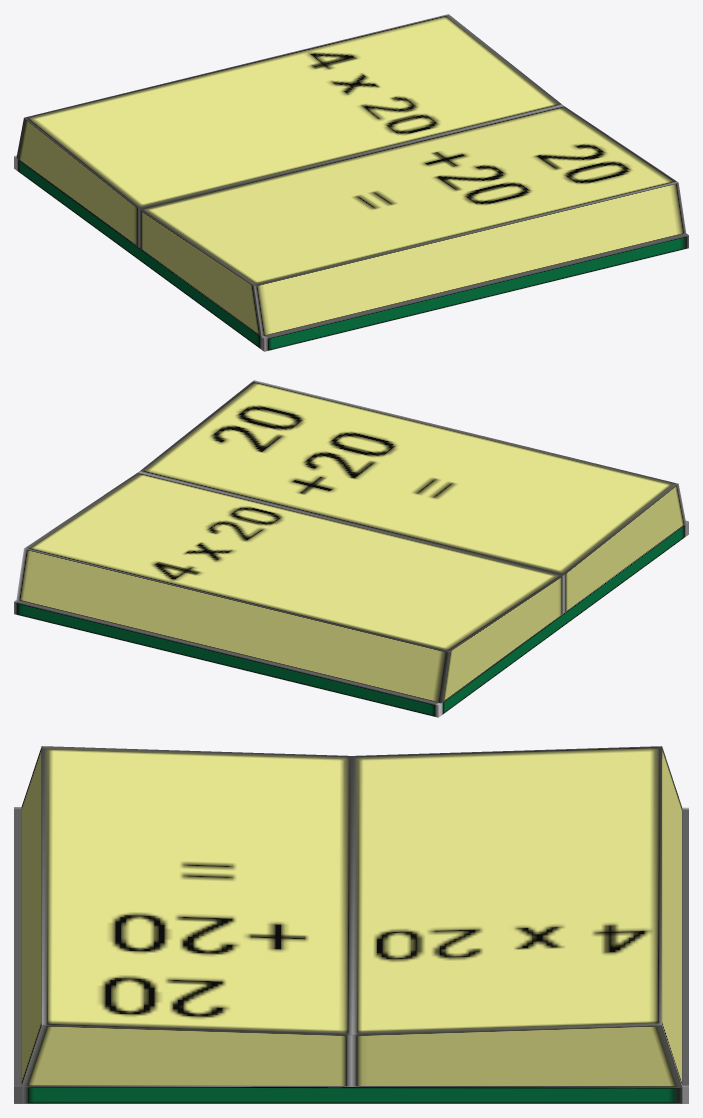
The model's file is TextbookOpen.fbx.
3 renders of one model, top to bottom at view 1: azimuth 30°, elevation 25°; view 2: azimuth 150°, elevation 25°; view 3: azimuth 270°, elevation 25°, orthographic. The views are drawn at different scales.
Parts seen in each view (by area): view 1: Textbook:pCube1; view 2: Textbook:pCube1; view 3: Textbook:pCube1.
Part boxes in pixels (x1,y1,x2,y2): Textbook:pCube1: [14, 14, 688, 351]; Textbook:pCube1: [14, 380, 688, 717]; Textbook:pCube1: [14, 746, 688, 1103].
Bounding box in the file's own units: 7.5 × 0.9827 × 7.66.
